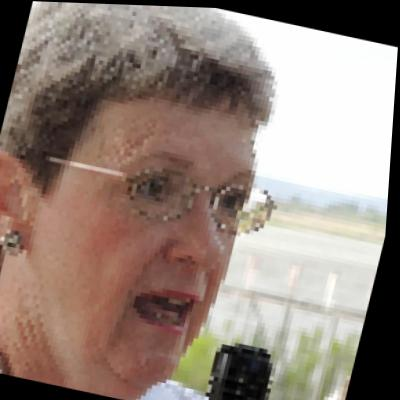surprise: (4, 34, 280, 400)
